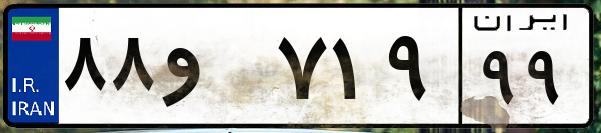1: (330, 28, 385, 110)
7: (270, 28, 330, 110)
8: (57, 26, 110, 100), (110, 28, 158, 98)
9: (385, 28, 445, 110), (475, 38, 525, 113), (525, 38, 570, 115)
و: (158, 20, 270, 120)
